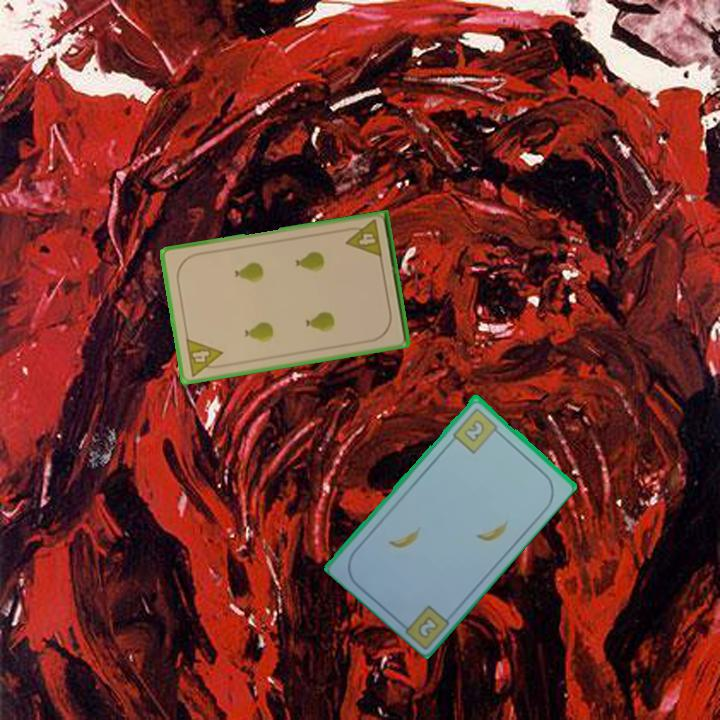2b: (449, 404, 504, 456), (414, 612, 442, 639)
4p: (182, 335, 227, 379), (341, 216, 385, 261)
